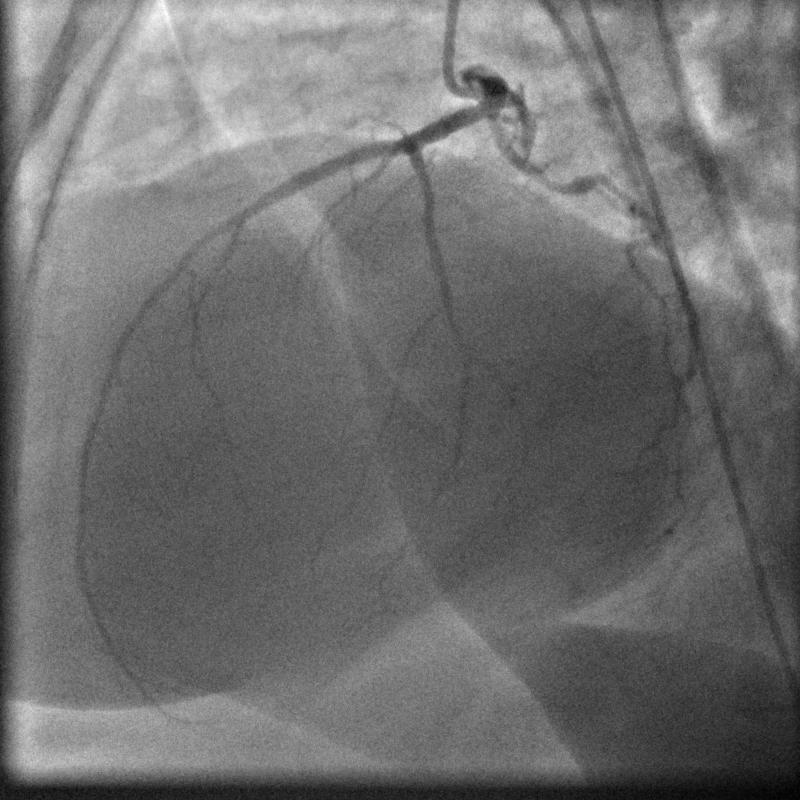Stenosis: (532, 158, 580, 202)
